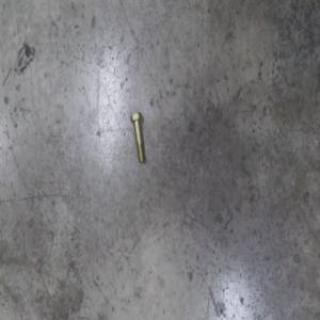Bolttrack_idkeyframe: (129, 108, 144, 161)
